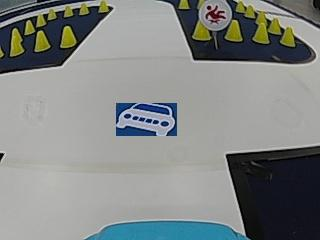cone: (224, 19, 243, 42), (253, 20, 268, 44), (60, 26, 76, 48), (192, 21, 210, 40), (10, 29, 22, 56), (280, 26, 295, 47), (34, 31, 49, 51), (268, 17, 281, 34), (24, 19, 34, 35), (35, 13, 46, 27), (245, 3, 255, 18), (78, 2, 89, 15), (98, 0, 108, 13), (63, 4, 73, 17), (47, 7, 57, 20), (235, 0, 245, 13), (178, 0, 189, 10)
tumble: (201, 2, 230, 28)
